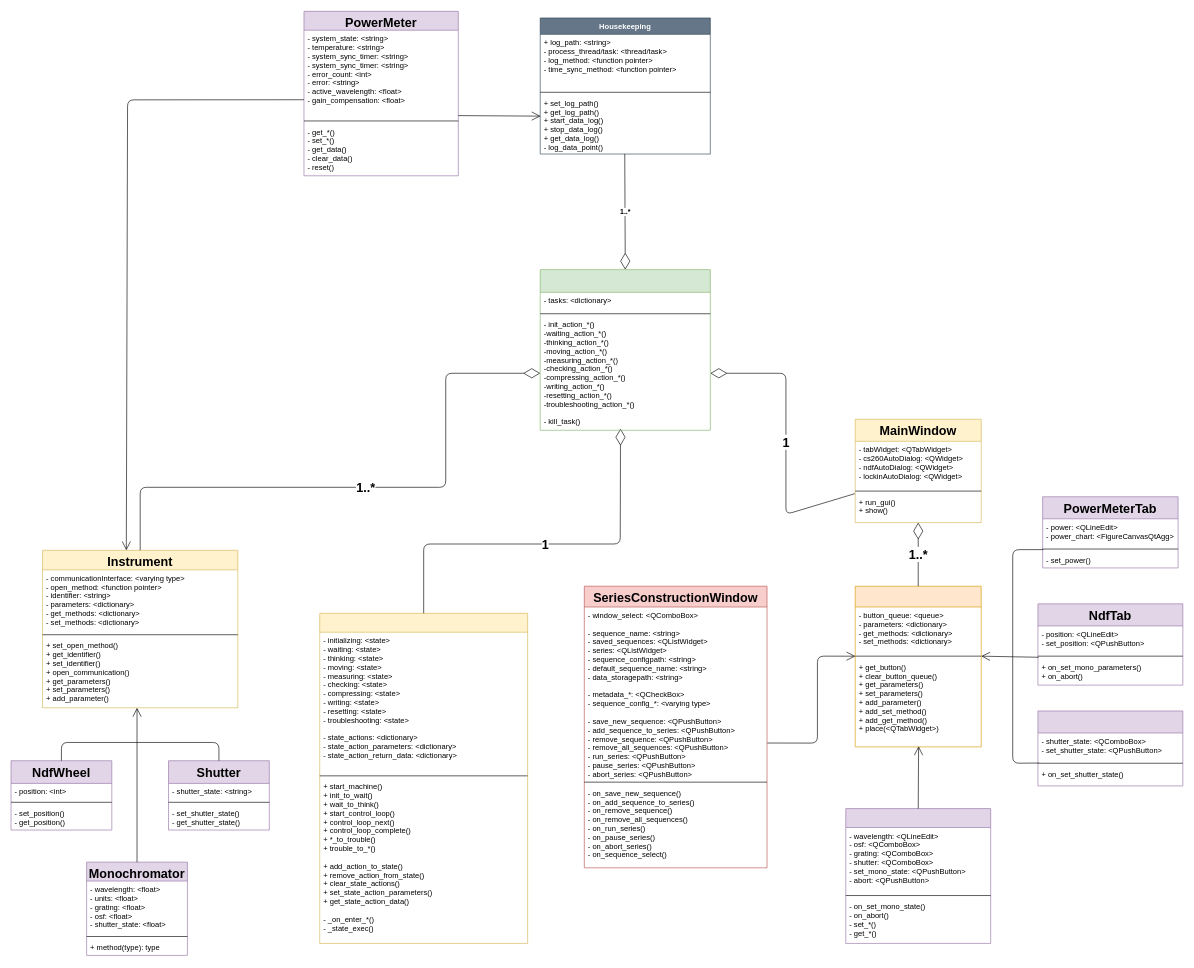
This 1194x968 diagram has some shape labels left out. The shapes that lost their labels are listed below. From the top down, each one's box as (x1, y1, x2, y2) in pixels, then its label:
(540, 269, 710, 430): CalibrationMachine
(855, 586, 981, 747): GuiTab
(1037, 710, 1183, 786): ShutterTab
(319, 613, 528, 943): StateMachine
(845, 808, 991, 943): MonochromatorTab
